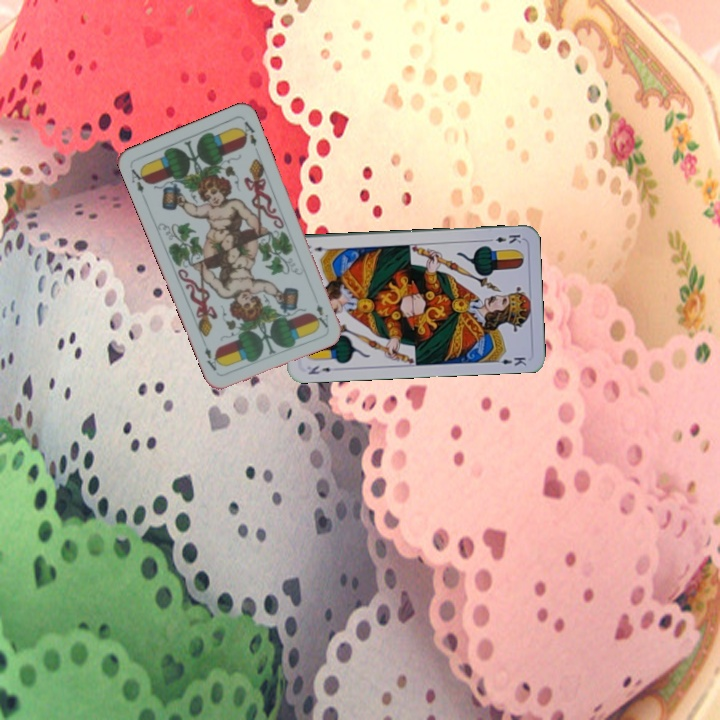EA: (127, 164, 150, 196), (312, 300, 331, 330)
EK: (483, 230, 524, 246), (304, 361, 341, 377)
